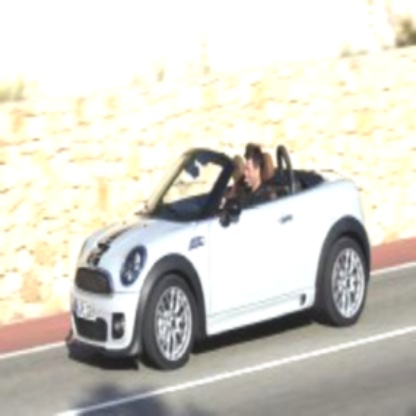Vehicle: (69, 134, 374, 380)
